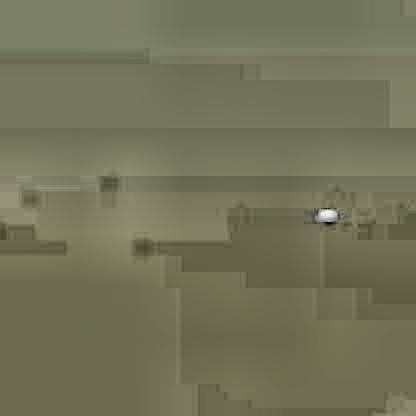golfball: (314, 206, 334, 221)
